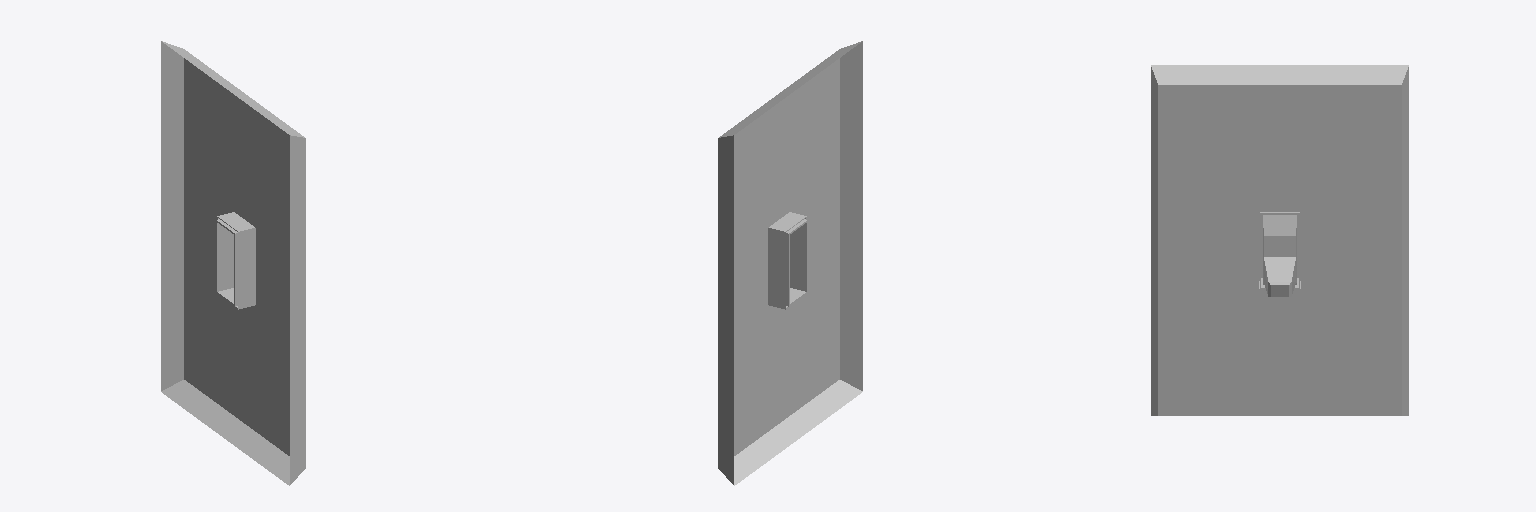
The model's file is switch.obj.
The picture shows the model from 3 angles: view 1: azimuth 30°, elevation 25°; view 2: azimuth 150°, elevation 25°; view 3: azimuth 270°, elevation 25°; orthographic projection.
Visible parts, largest first — view 1: Plane; view 2: Plane; view 3: Plane.
Part boxes in pixels (left/top/right/bottom): Plane: left=161, top=41, right=305, bottom=485; Plane: left=718, top=41, right=862, bottom=485; Plane: left=1151, top=65, right=1408, bottom=415.
Size of the model in its own units: 0.3682 by 2 by 1.33.